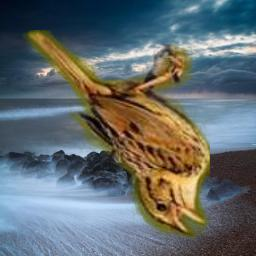Sparrow: (22, 30, 210, 238)
